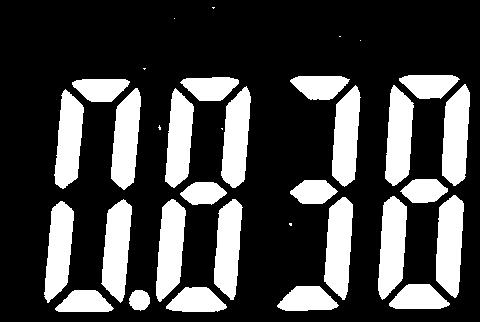0: (42, 71, 141, 313)
3: (282, 67, 363, 315)
8: (159, 70, 253, 322), (379, 68, 472, 316)
dot: (125, 287, 151, 312)
